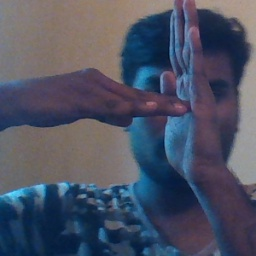Z: (109, 1, 220, 193)
